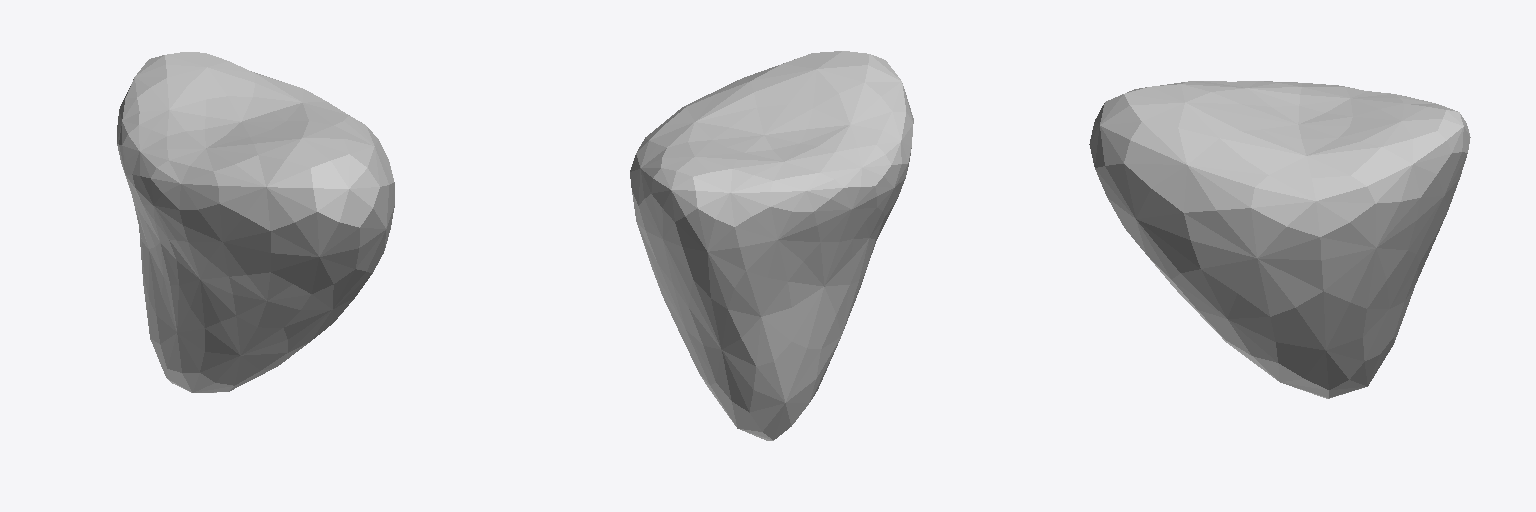
Rendered from rock.obj.
3 renders of one model, left to right at view 1: azimuth 30°, elevation 25°; view 2: azimuth 150°, elevation 25°; view 3: azimuth 270°, elevation 25°, orthographic.
Parts seen in each view (by area): view 1: Icosphere; view 2: Icosphere; view 3: Icosphere.
Part boxes in pixels (bbox=[...]): Icosphere: bbox=[117, 52, 394, 392]; Icosphere: bbox=[630, 51, 913, 440]; Icosphere: bbox=[1089, 81, 1470, 398].
Size of the model in its own units: 1.49 by 1.88 by 2.13.